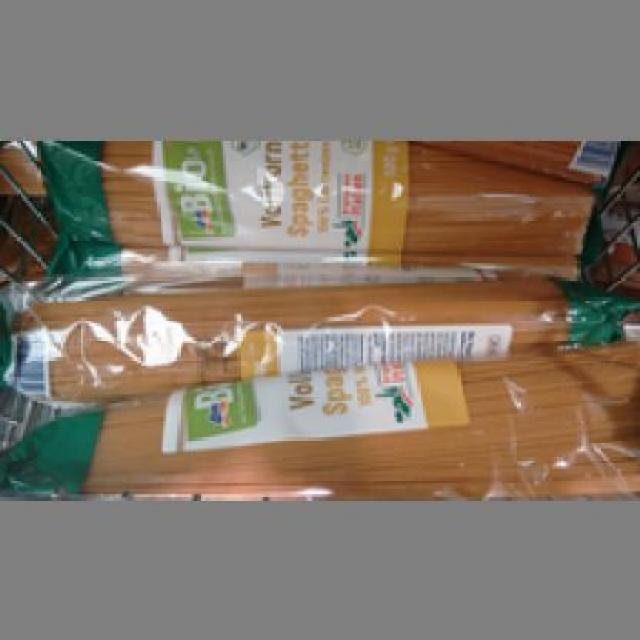Pasta: (0, 344, 632, 489), (2, 274, 638, 394), (31, 134, 598, 254)
